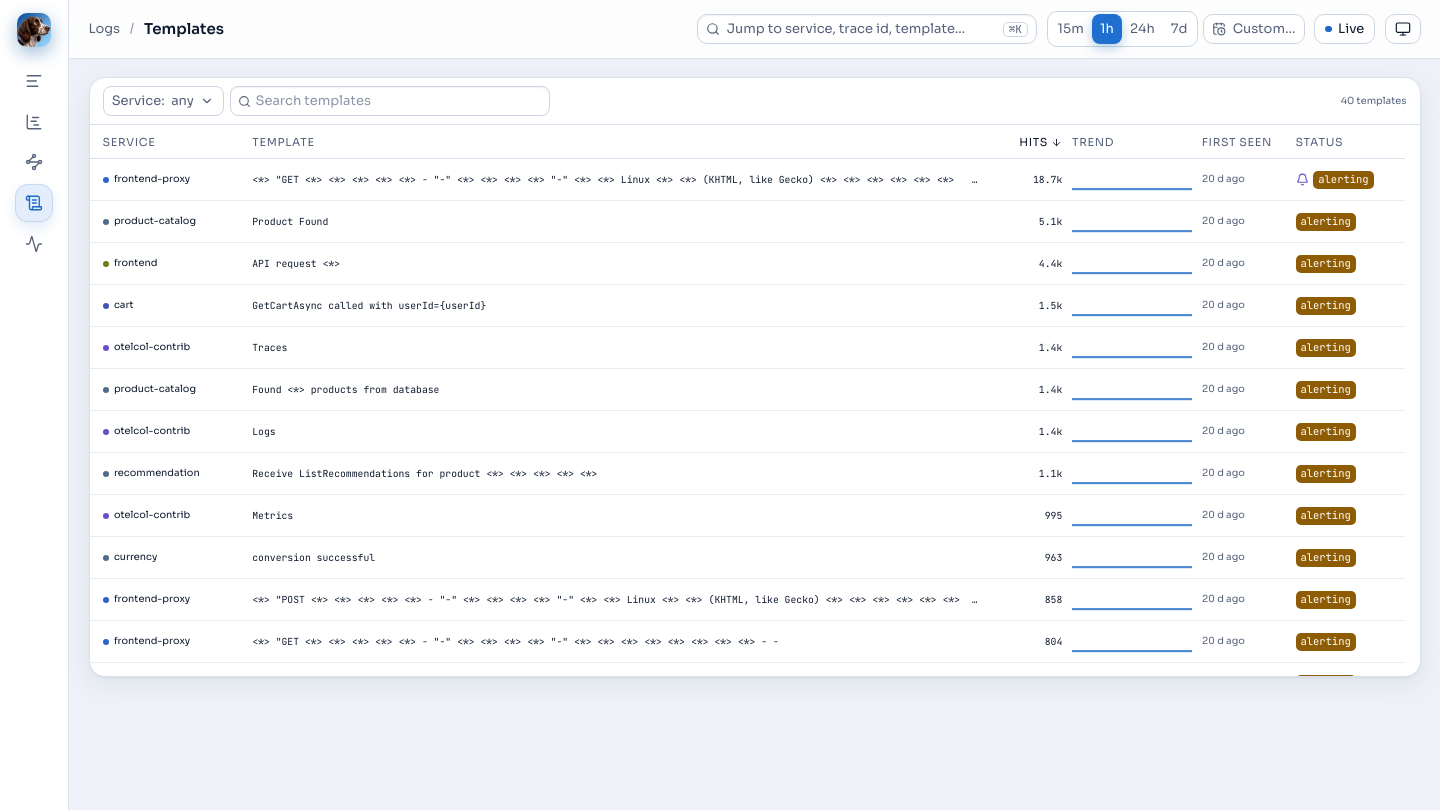
Test: log templates › sorts by a column
Step 1. Click the button "Hits" → (1041, 142), box [1019, 134, 1062, 150]
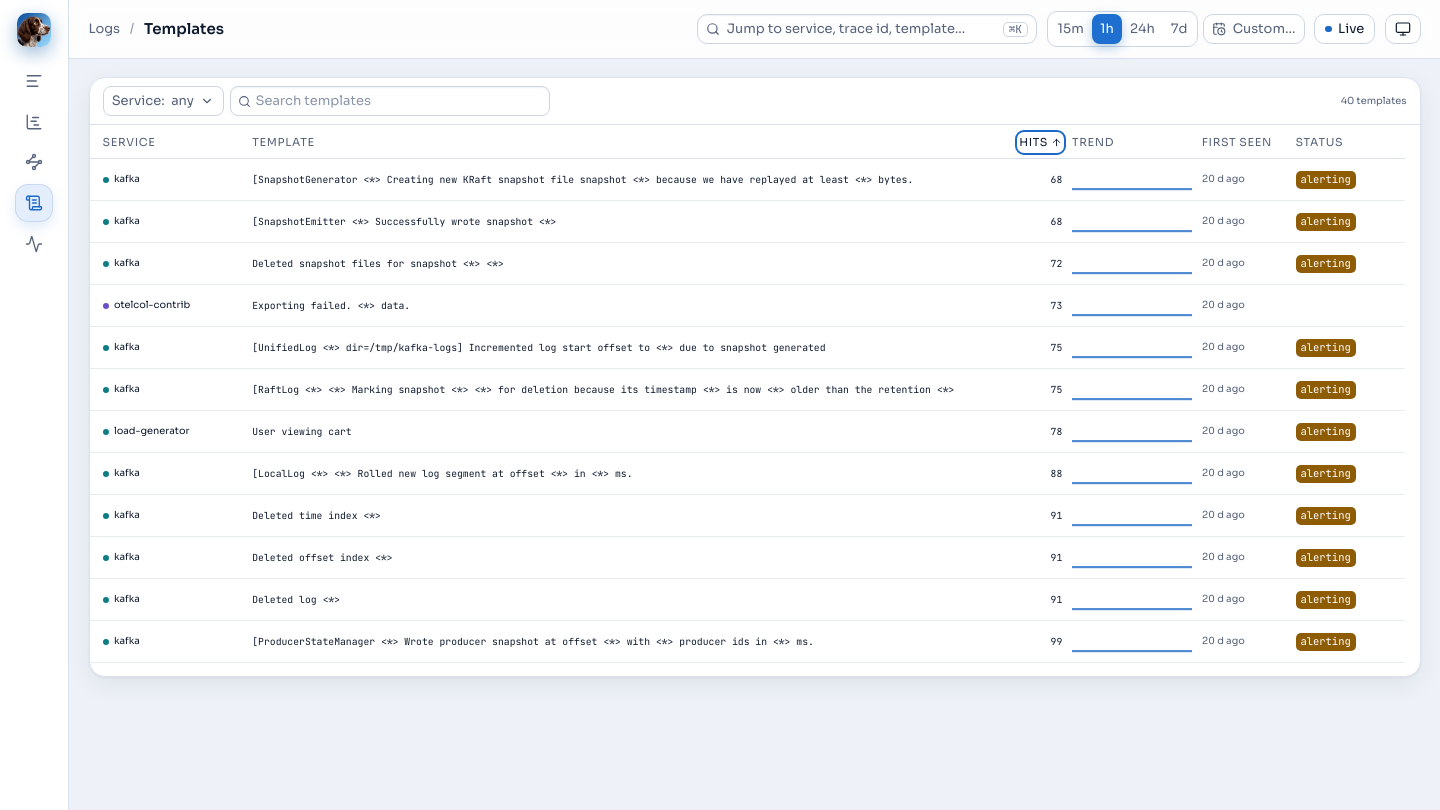
Result: the text "68" is shown at [1050, 173, 1062, 186]
